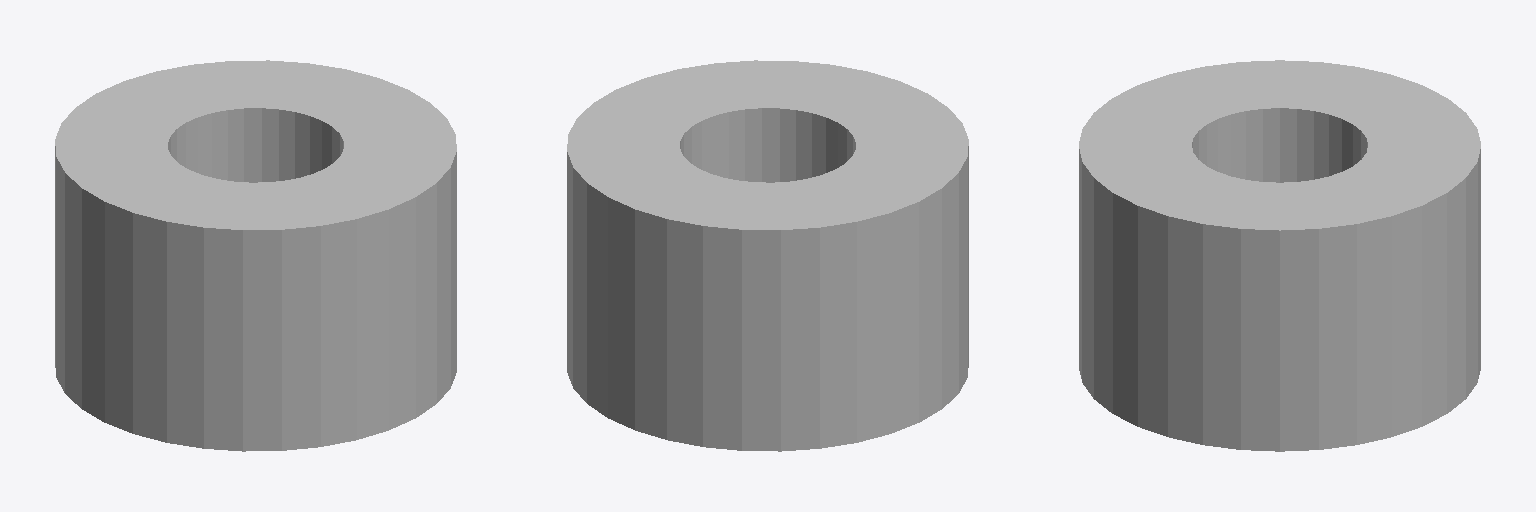
Rendered from Holzzylinder2.obj.
3 views of the same model, side by side, from view 1: azimuth 30°, elevation 25°; view 2: azimuth 150°, elevation 25°; view 3: azimuth 270°, elevation 25° (orthographic).
Visible parts, largest first — view 1: Holzzylinder.002_Cylinder.034; view 2: Holzzylinder.002_Cylinder.034; view 3: Holzzylinder.002_Cylinder.034.
Boxes of the visible parts, box(x1,y1,x2,y2) form: Holzzylinder.002_Cylinder.034: box(55, 60, 456, 451); Holzzylinder.002_Cylinder.034: box(567, 60, 968, 451); Holzzylinder.002_Cylinder.034: box(1079, 60, 1480, 451).
Bounding box in the file's own units: 0.5332 × 0.323 × 0.5332.